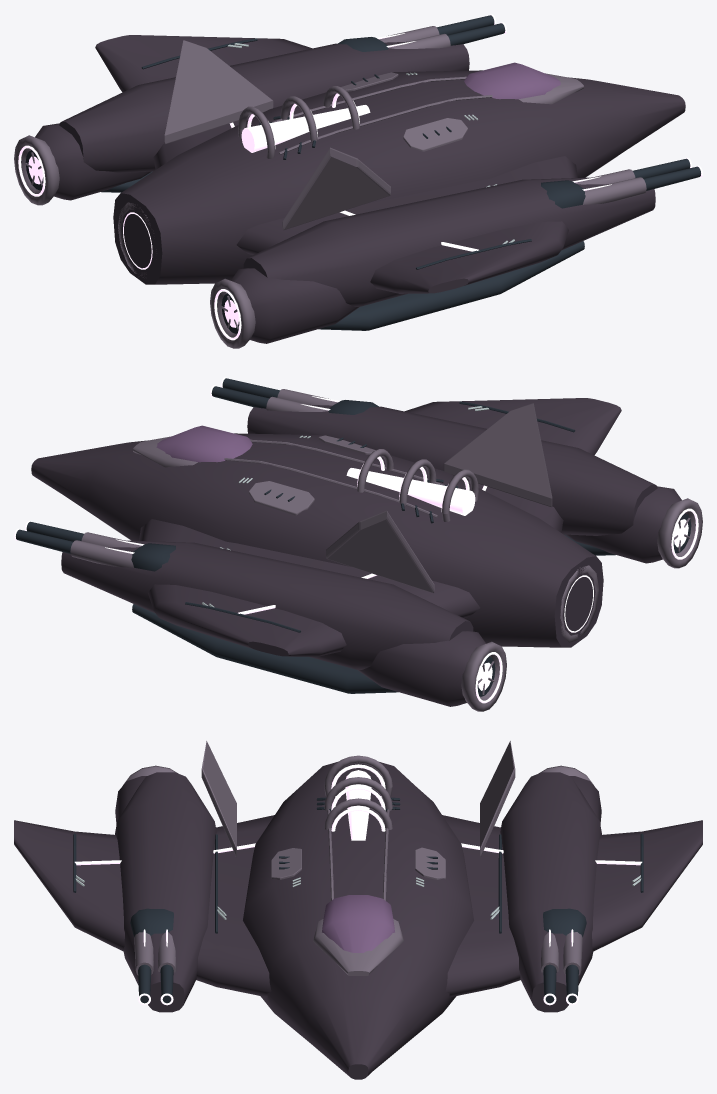
The model's file is sovereign.glb.
3 renders of one model, top to bottom at view 1: azimuth 30°, elevation 25°; view 2: azimuth 150°, elevation 25°; view 3: azimuth 270°, elevation 25°, orthographic. The views are drawn at different scales.
Parts seen in each view (by area): view 1: hull Hull paint, wing Hull paint, hull Brushed panel alloy, hull Graphite heat armour, engine Brushed panel alloy, mount Graphite heat armour, mount Brushed panel alloy, hull Smoked canopy, hull Hull guidance, engine Hull guidance, wing Graphite heat armour; view 2: hull Hull paint, wing Hull paint, hull Brushed panel alloy, hull Graphite heat armour, engine Brushed panel alloy, mount Graphite heat armour, mount Brushed panel alloy, hull Smoked canopy, hull Hull guidance, engine Hull guidance, wing Graphite heat armour; view 3: hull Hull paint, wing Hull paint, hull Brushed panel alloy, mount Graphite heat armour, hull Smoked canopy, mount Brushed panel alloy, hull Hull guidance, wing Graphite heat armour, wing Hull guidance, engine Brushed panel alloy.
Boxes of the visible parts, left/top/right/bottom form: hull Hull paint: left=35, top=41, right=685, bottom=343; wing Hull paint: left=95, top=35, right=577, bottom=293; hull Brushed panel alloy: left=164, top=40, right=583, bottom=230; hull Graphite heat armour: left=101, top=74, right=584, bottom=330; engine Brushed panel alloy: left=14, top=135, right=255, bottom=348; mount Graphite heat armour: left=337, top=15, right=700, bottom=208; mount Brushed panel alloy: left=379, top=26, right=646, bottom=204; hull Smoked canopy: left=464, top=62, right=560, bottom=99; hull Hull guidance: left=241, top=93, right=370, bottom=152; engine Hull guidance: left=18, top=145, right=241, bottom=340; wing Graphite heat armour: left=141, top=38, right=531, bottom=269; hull Hull paint: left=31, top=404, right=681, bottom=706; wing Hull paint: left=139, top=398, right=621, bottom=656; hull Brushed panel alloy: left=133, top=403, right=552, bottom=593; hull Graphite heat armour: left=132, top=437, right=615, bottom=693; engine Brushed panel alloy: left=461, top=498, right=702, bottom=711; mount Graphite heat armour: left=16, top=378, right=379, bottom=571; mount Brushed panel alloy: left=70, top=389, right=337, bottom=567; hull Smoked canopy: left=156, top=425, right=252, bottom=462; hull Hull guidance: left=346, top=456, right=475, bottom=515; engine Hull guidance: left=475, top=508, right=698, bottom=703; wing Graphite heat armour: left=185, top=401, right=575, bottom=632; hull Hull paint: left=115, top=761, right=601, bottom=1079; wing Hull paint: left=14, top=815, right=702, bottom=997; hull Brushed panel alloy: left=201, top=741, right=515, bottom=975; mount Graphite heat armour: left=130, top=908, right=586, bottom=1003; hull Smoked canopy: left=322, top=895, right=394, bottom=952; mount Brushed panel alloy: left=134, top=932, right=582, bottom=975; hull Hull guidance: left=331, top=764, right=385, bottom=840; wing Graphite heat armour: left=73, top=833, right=643, bottom=933; wing Hull guidance: left=74, top=843, right=642, bottom=865; engine Brushed panel alloy: left=123, top=765, right=593, bottom=785.
Size of the model in its own units: 65.02 by 19.6 by 68.
